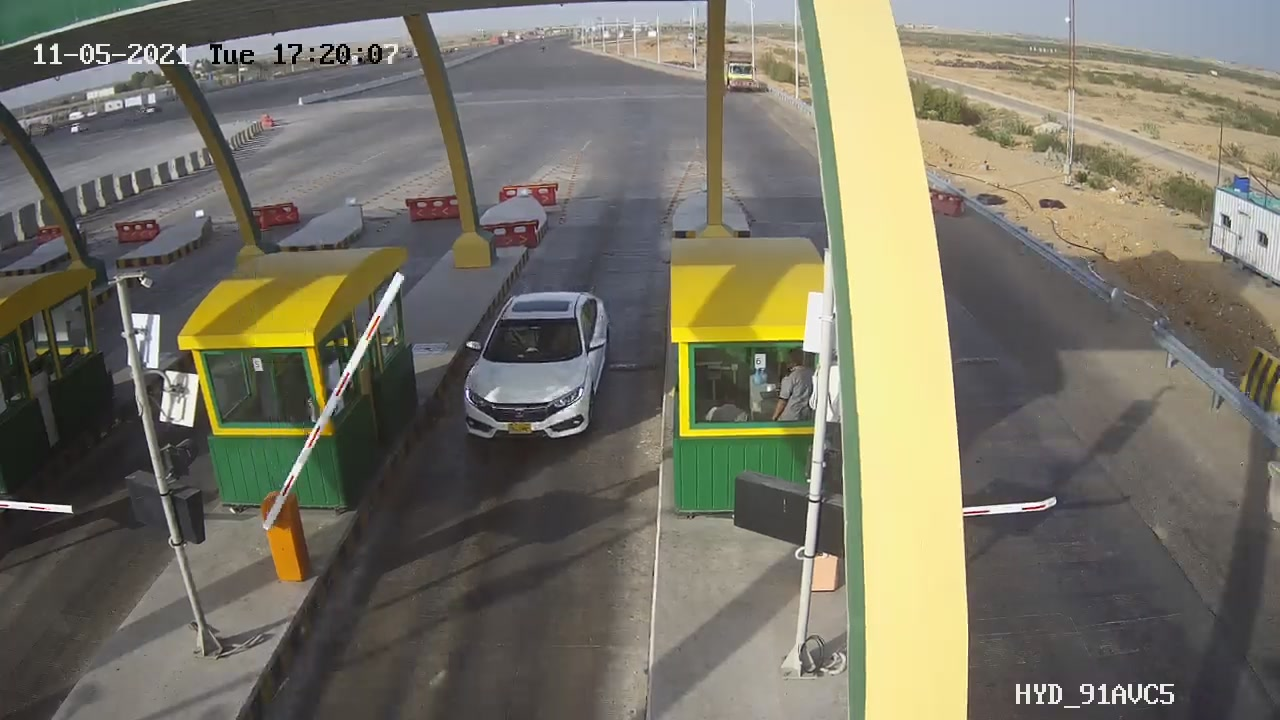F1: (444, 272, 626, 453)
